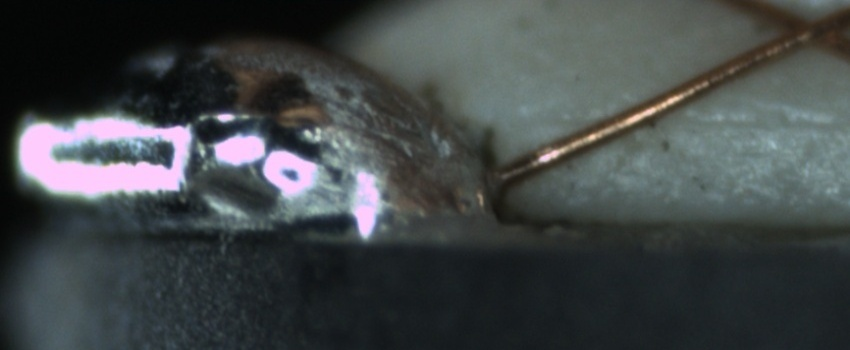CL: (759, 0, 844, 60)
DL: (539, 91, 850, 153)
